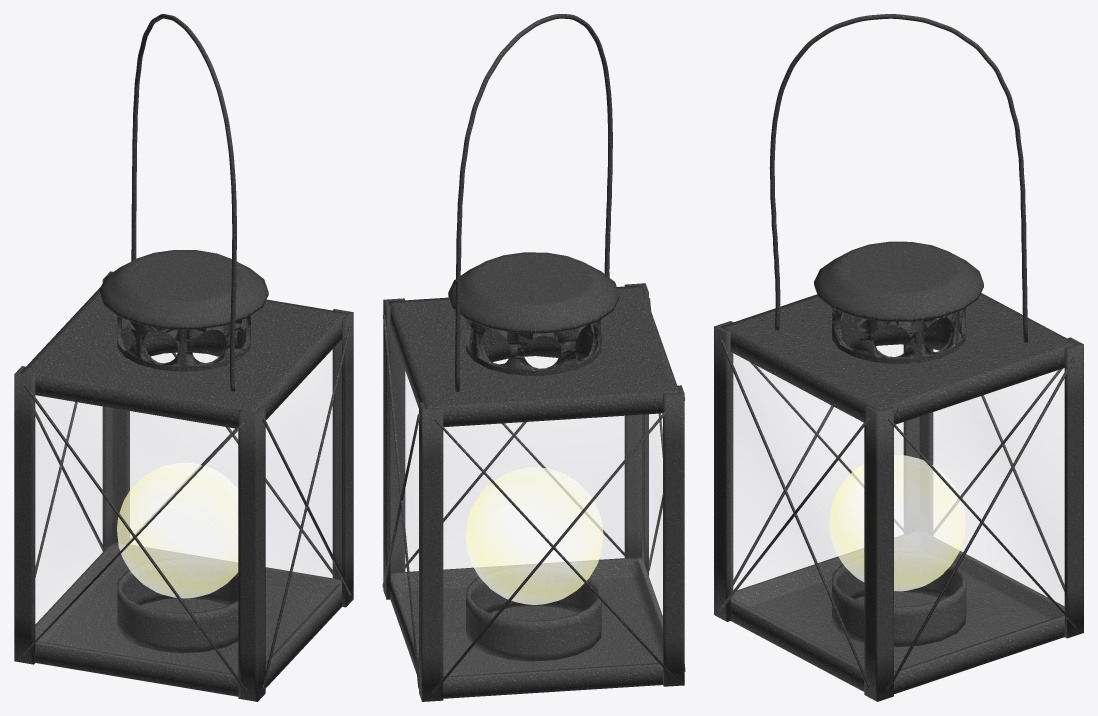
Rendered from lantern.glb.
3 renders of one model, left to right at view 1: azimuth 30°, elevation 25°; view 2: azimuth 150°, elevation 25°; view 3: azimuth 270°, elevation 25°, orthographic.
Visible parts, largest first — view 1: Object_4, Object_5, Object_3, Object_2; view 2: Object_4, Object_5, Object_3, Object_2; view 3: Object_4, Object_3, Object_5, Object_2.
Boxes of the visible parts, <box> form: Object_4: <box>20,250,351,690</box>; Object_5: <box>14,14,353,701</box>; Object_3: <box>36,350,341,627</box>; Object_2: <box>117,462,238,598</box>; Object_4: <box>382,252,685,692</box>; Object_5: <box>383,14,685,701</box>; Object_3: <box>391,332,662,627</box>; Object_2: <box>466,467,603,604</box>; Object_4: <box>719,241,1077,690</box>; Object_3: <box>731,353,1063,608</box>; Object_5: <box>714,14,1083,701</box>; Object_2: <box>829,455,965,591</box>.
Size of the model in its own units: 17.41 by 31.69 by 17.42.
Materials: 3 (1 with a texture image).
